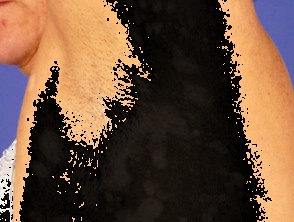vitiligo: (30, 0, 265, 222)
